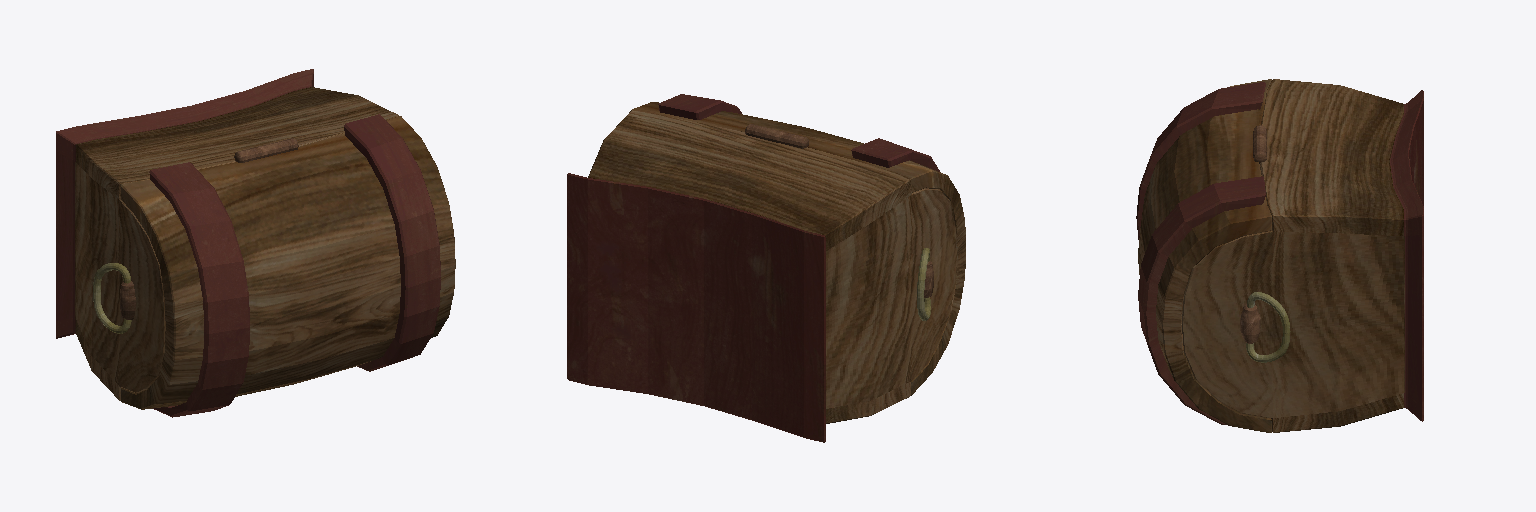
3 views of the same model, side by side, from view 1: azimuth 30°, elevation 25°; view 2: azimuth 150°, elevation 25°; view 3: azimuth 270°, elevation 25° (orthographic).
Visible parts, largest first — view 1: CHESTSandTRUNKS; view 2: CHESTSandTRUNKS; view 3: CHESTSandTRUNKS.
Part boxes in pixels (bbox=[...]): CHESTSandTRUNKS: bbox=[56, 69, 455, 417]; CHESTSandTRUNKS: bbox=[567, 94, 965, 442]; CHESTSandTRUNKS: bbox=[1136, 79, 1423, 432].
Size of the model in its own units: 3.56 by 2.54 by 2.78.
Materials: 2 (2 with a texture image).